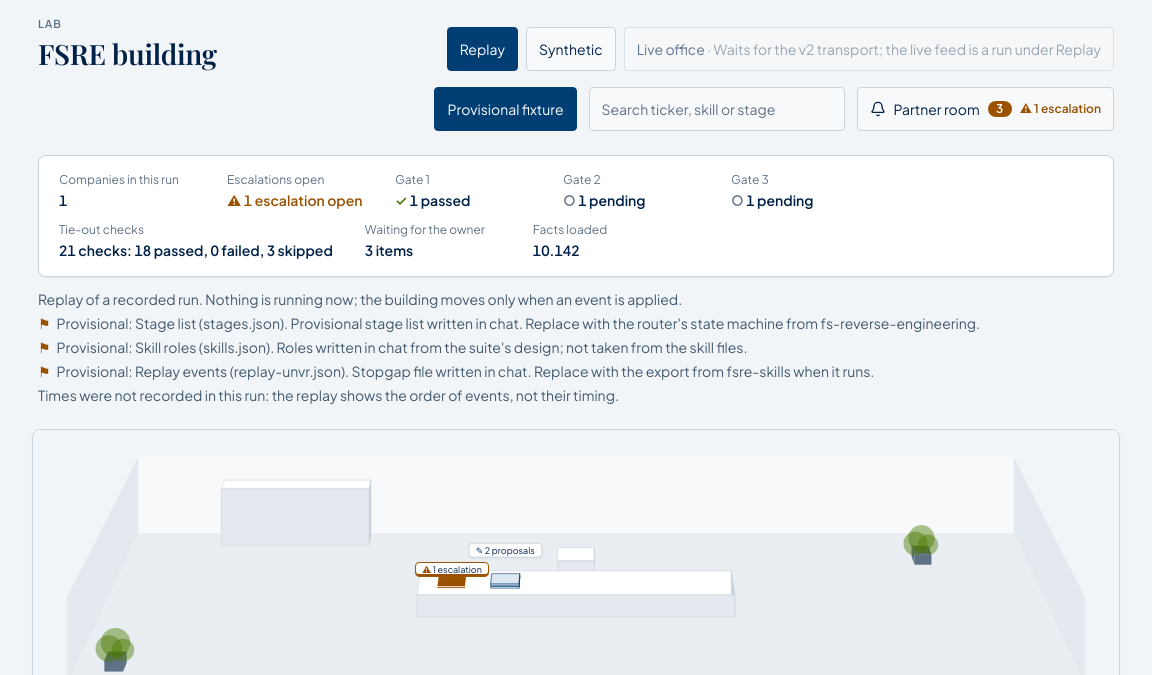
Test: the provisional shape, from GLM’s files kept as a fixture (rule 6) › shows placeholders exactly as written
Click the button with aria-label "Partner room:".
click(985, 109)  # box [856, 87, 1114, 131]
(page scrolled)
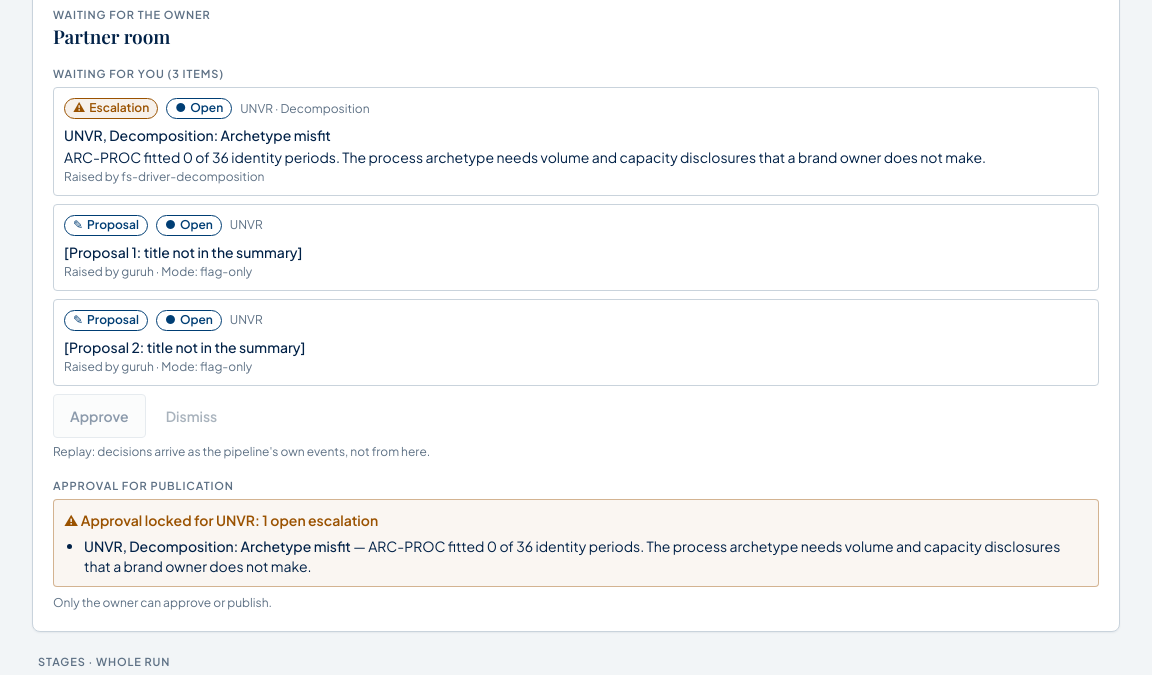
Now the text "[Proposal 1: title not in the summary]" is shown, box [64, 243, 302, 261]
Now the text "[Proposal 2: title not in the summary]" is shown, box [64, 338, 306, 356]
